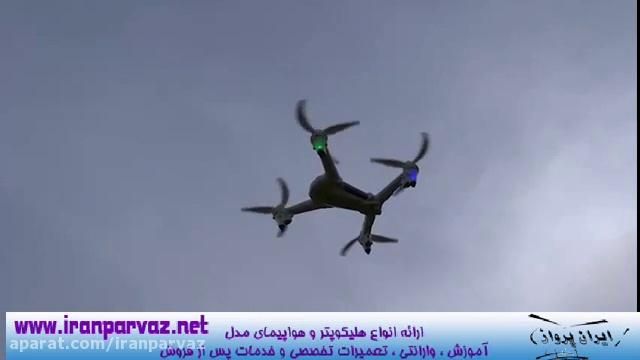drone: (235, 92, 435, 260)
